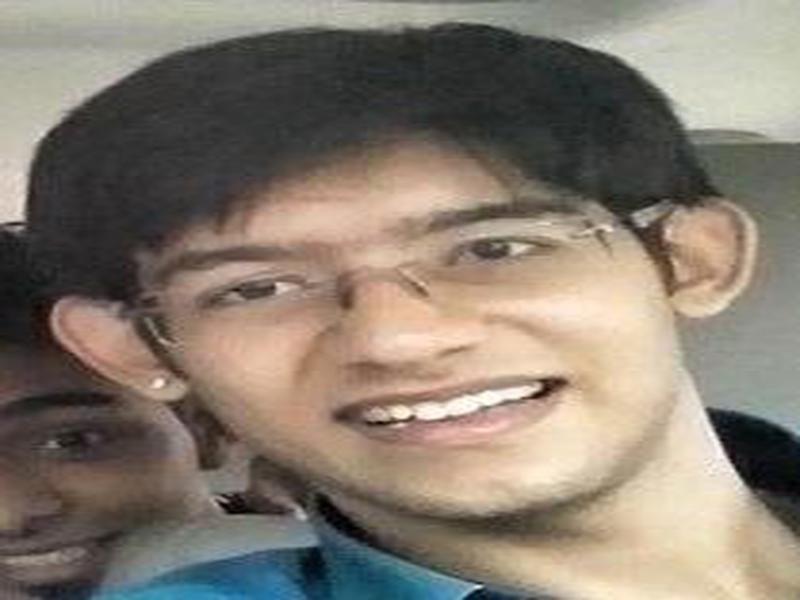without_mask: (142, 165, 661, 514)
